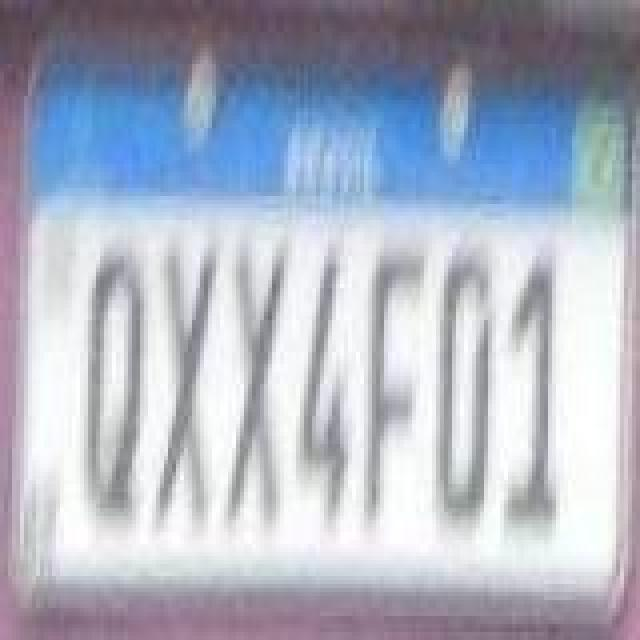1: (498, 248, 558, 536)
4: (298, 250, 350, 518)
D: (436, 248, 492, 536)
F: (360, 244, 424, 524)
Q: (80, 240, 144, 528)
X: (150, 232, 218, 536), (224, 236, 288, 532)
